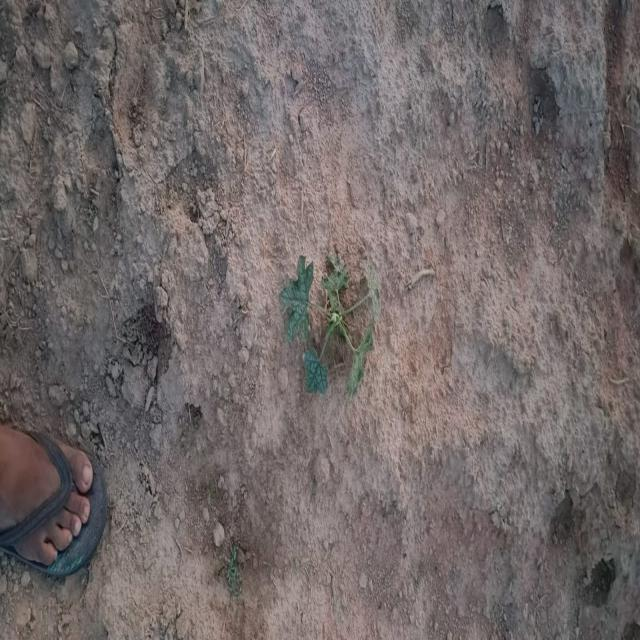plant: (280, 251, 381, 395)
